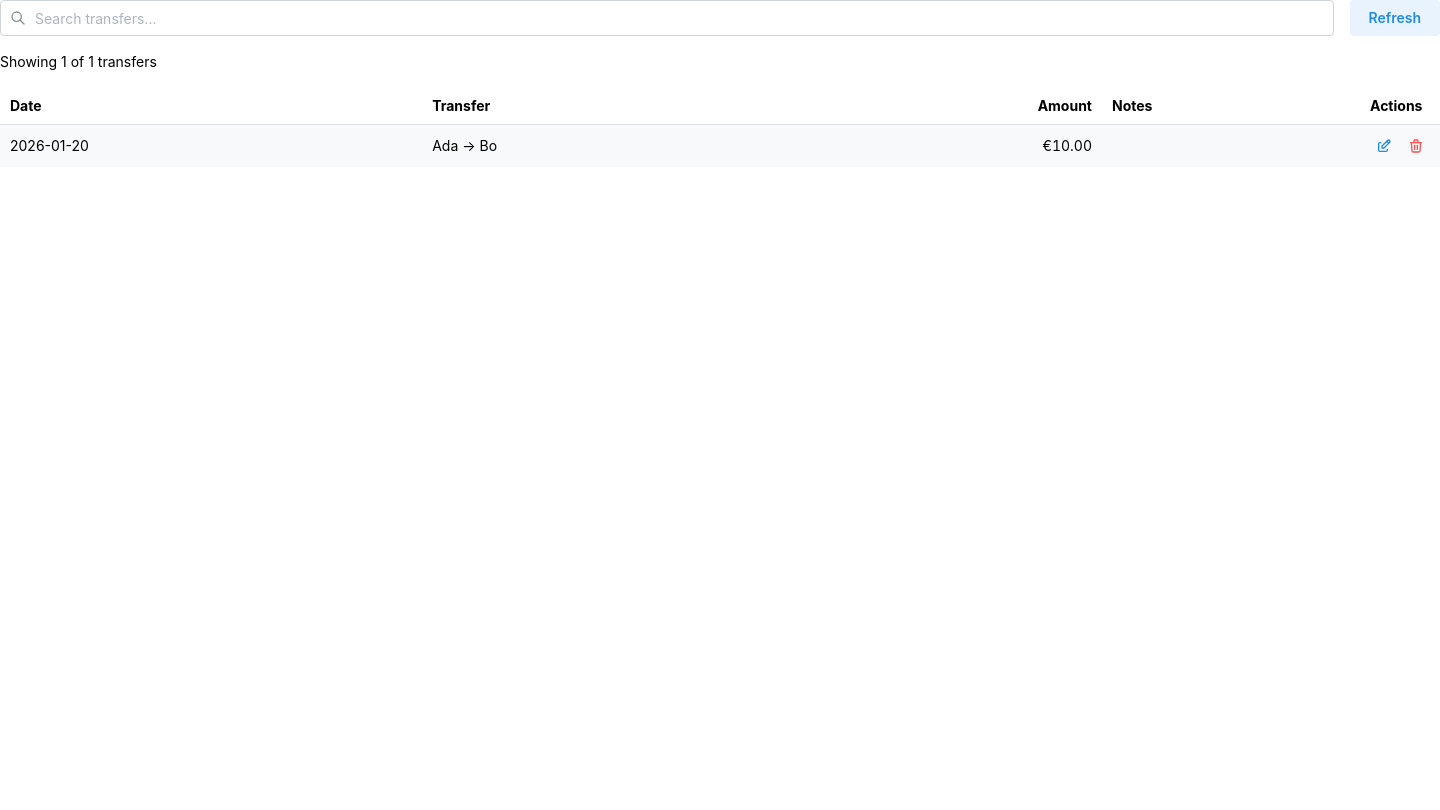
Test case: deleting a row › falls back to a generic message when the failure is not an Error
Click the button titled "Delete": (1416, 146) left=1402, top=132, right=1430, bottom=160
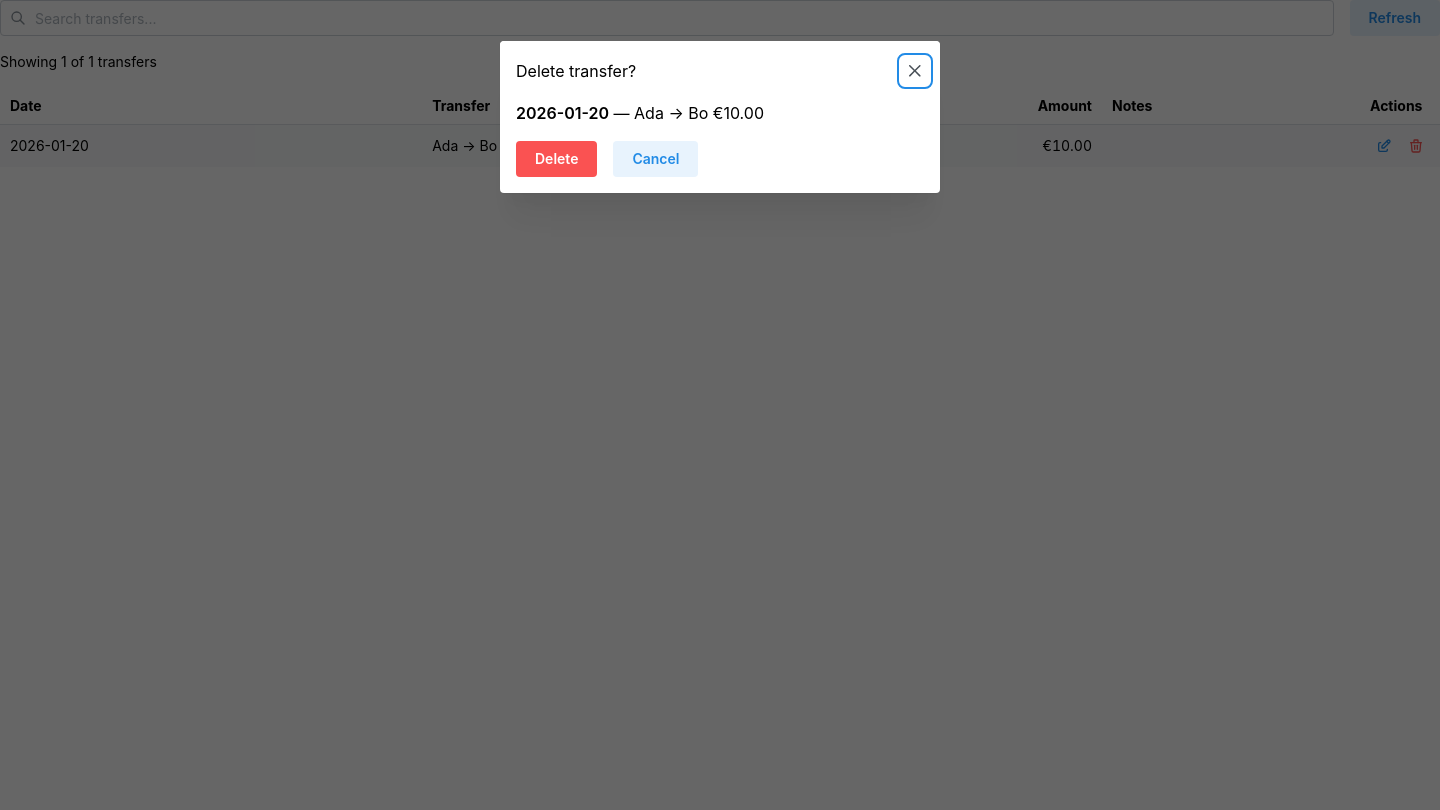
Click the button "Delete": (557, 159) left=516, top=141, right=597, bottom=177
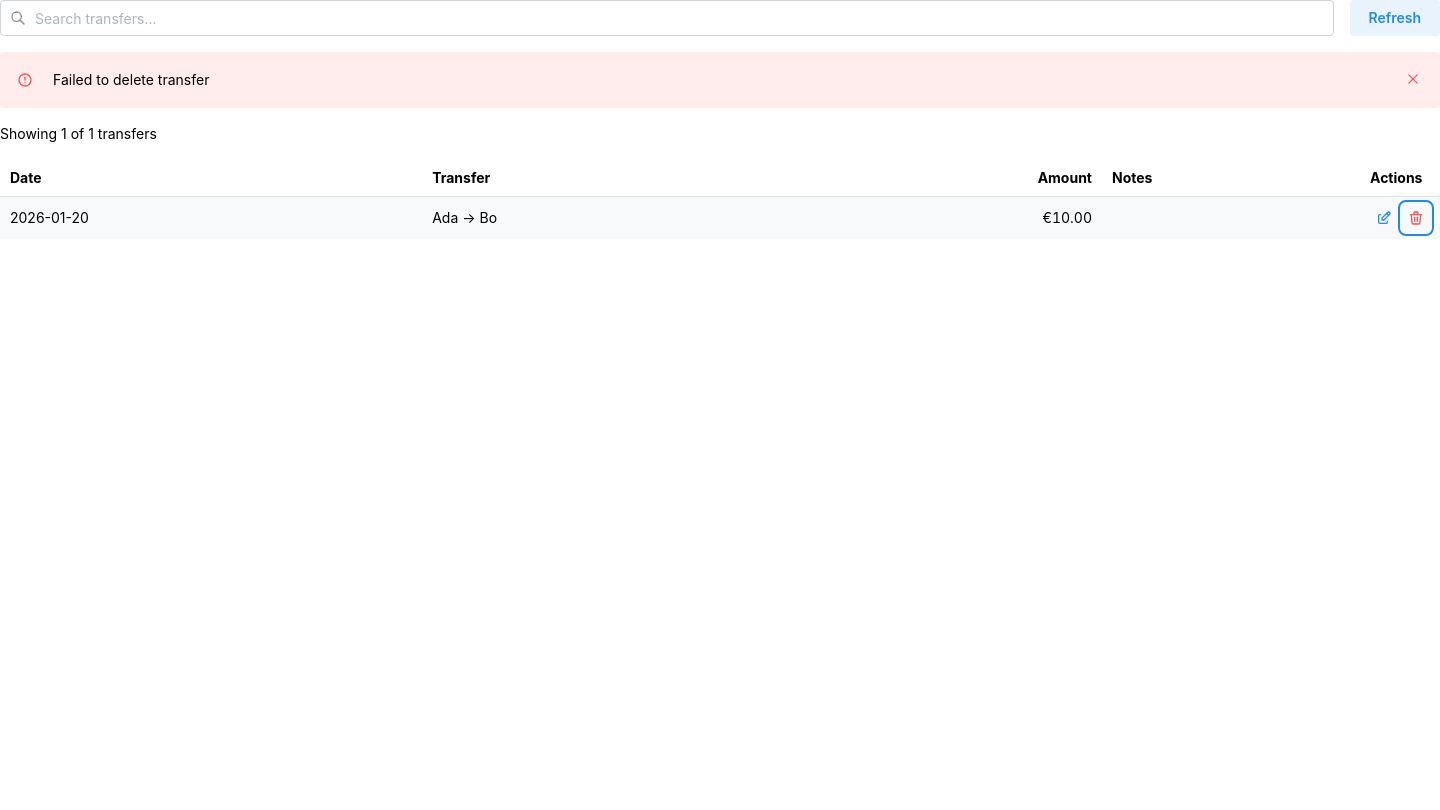
Now the text "Failed to delete transfer" is shown, box left=53, top=71, right=209, bottom=88
